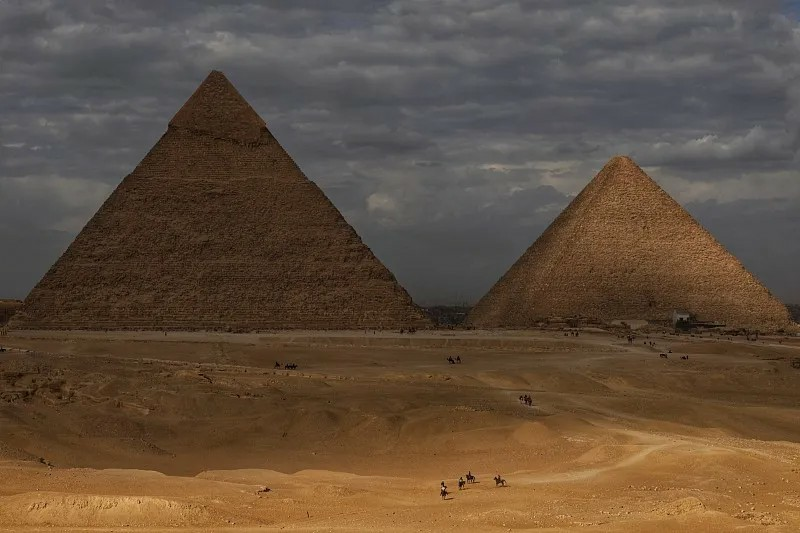Pyramid: (4, 71, 430, 329), (462, 154, 796, 329)
